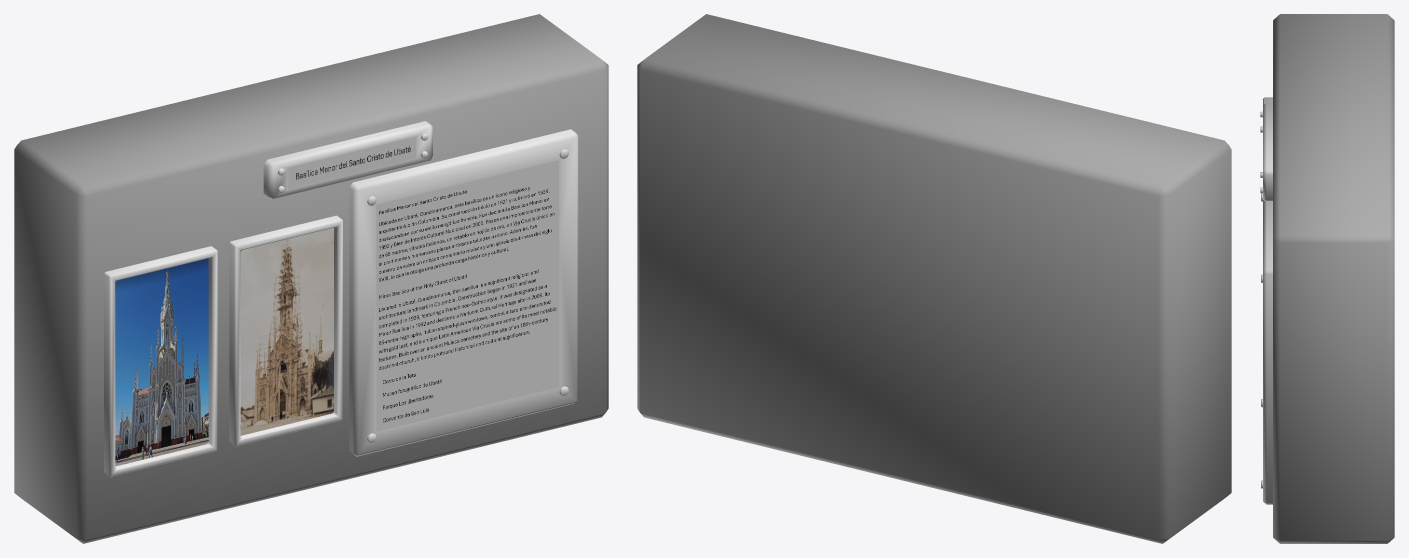
File: churche.glb
The picture shows the model from 3 angles, left to right: view 1: azimuth 30°, elevation 25°; view 2: azimuth 150°, elevation 25°; view 3: azimuth 270°, elevation 25°; orthographic projection. The views are drawn at different scales.
Parts seen in each view (by area): view 1: Cube; view 2: Cube; view 3: Cube.
Boxes of the visible parts, left/top/right/bottom form: Cube: left=14, top=14, right=608, bottom=543; Cube: left=637, top=14, right=1231, bottom=543; Cube: left=1260, top=14, right=1394, bottom=543.
Bounding box in the file's own units: 0.0222 × 0.0143 × 0.00559.
Materials: 4 (2 with a texture image).
